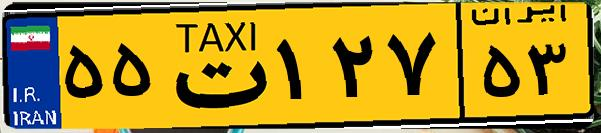1: (270, 28, 330, 110)
2: (330, 28, 385, 110)
3: (525, 38, 570, 115)
5: (57, 26, 110, 100), (475, 38, 525, 113), (110, 28, 158, 98)
7: (385, 28, 445, 110)
ت: (158, 12, 270, 120)
